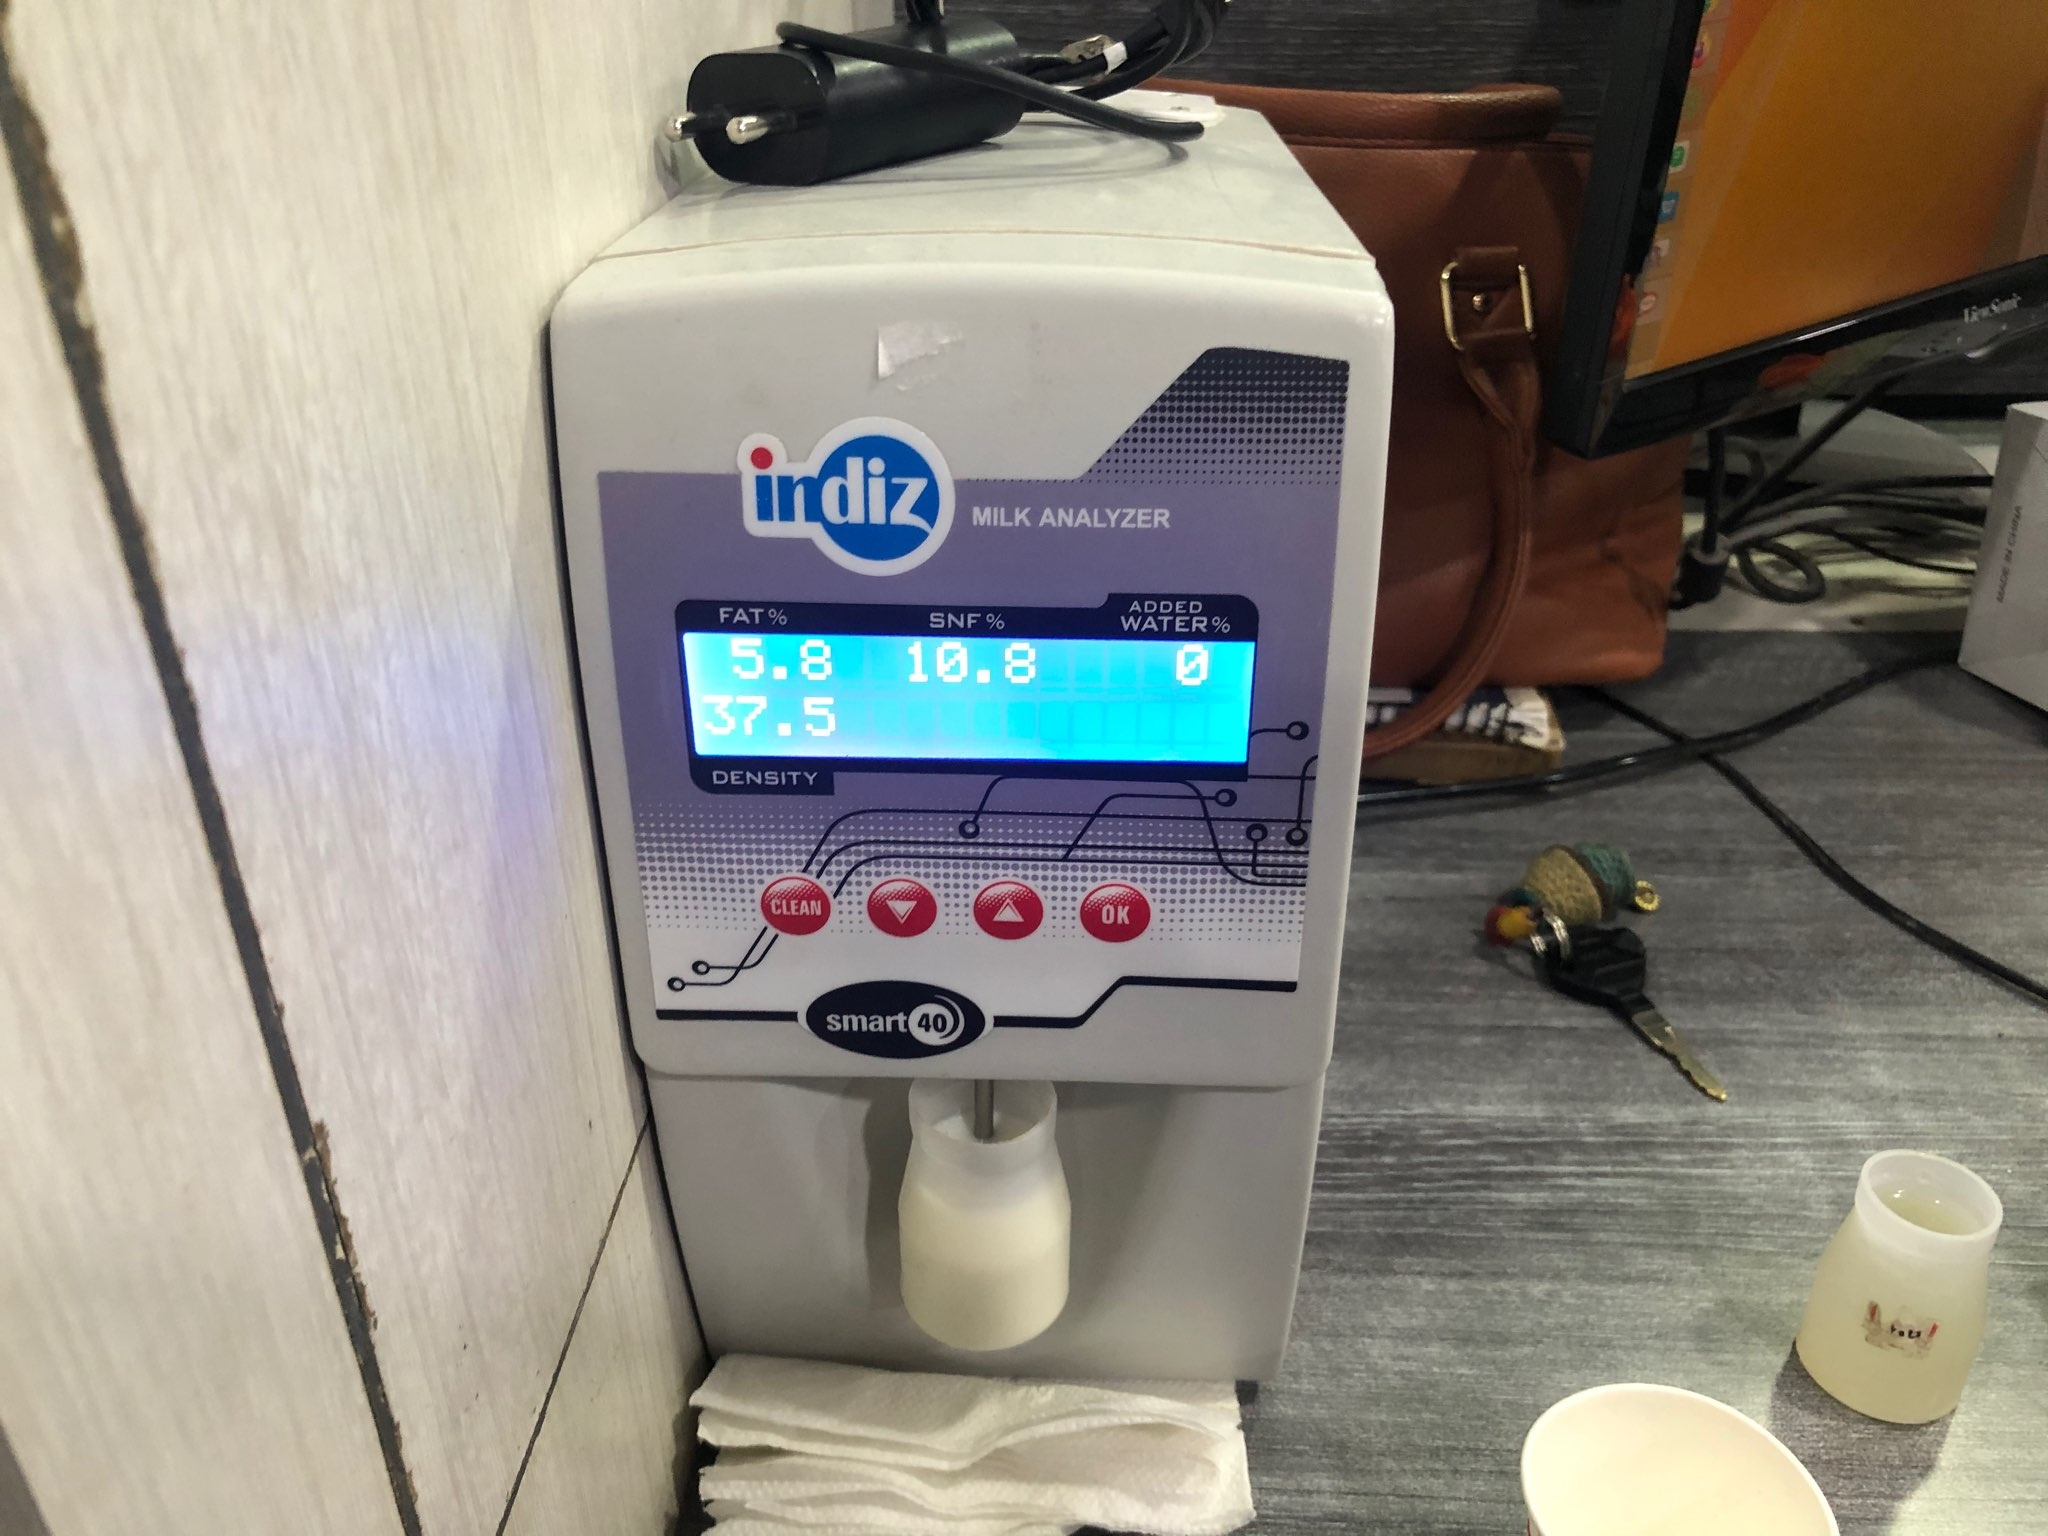lcd: (668, 563, 1264, 820)
